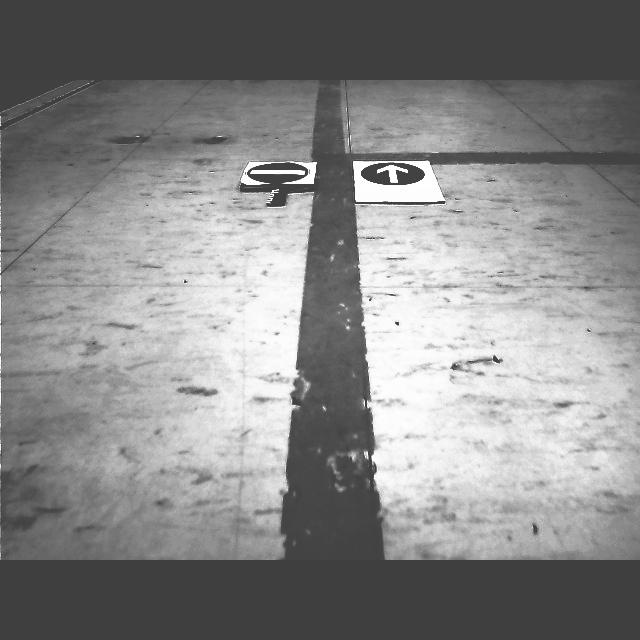GO FORWARD: (361, 162, 425, 185)
NO ENTRY: (249, 163, 309, 182)
